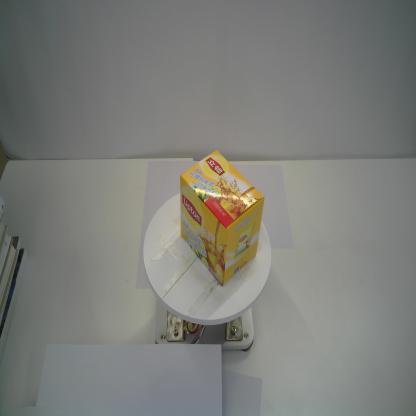Instant Drink: (178, 149, 265, 287)
